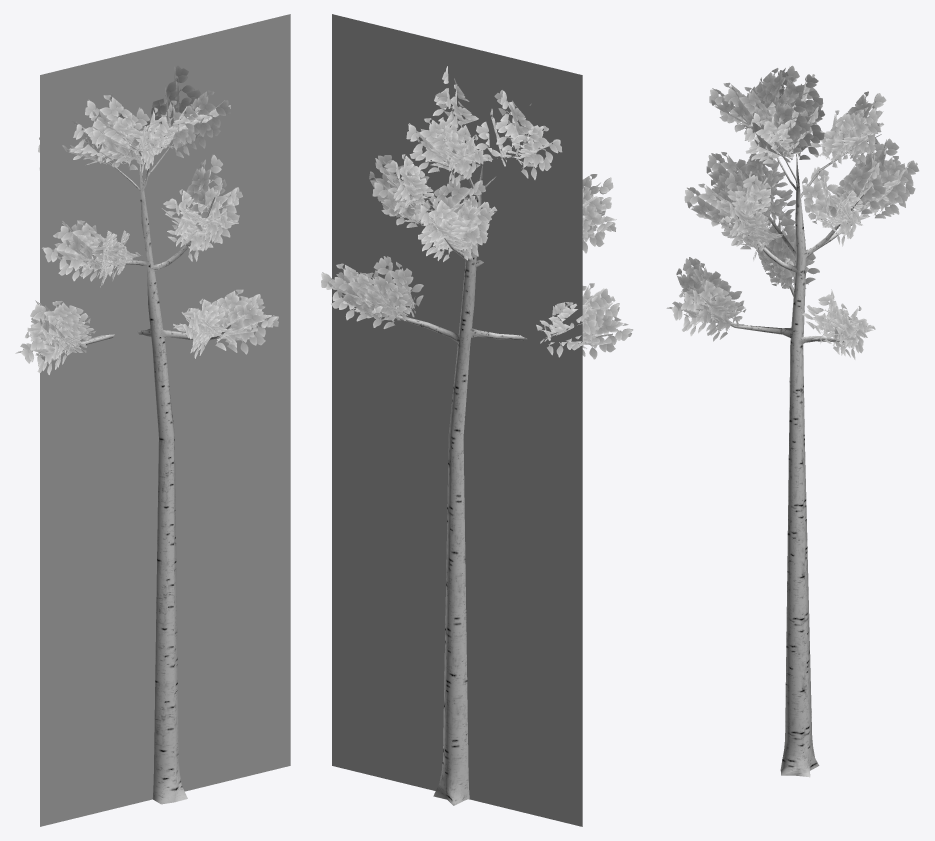
File: Tree_01.fbx
3 views of the same model, side by side, from view 1: azimuth 30°, elevation 25°; view 2: azimuth 150°, elevation 25°; view 3: azimuth 270°, elevation 25° (orthographic). The views are drawn at different scales.
Visible parts, largest first — view 1: Tree_01_Billboard, Tree_01_LOD0; view 2: Tree_01_Billboard, Tree_01_LOD0; view 3: Tree_01_LOD0.
Boxes of the visible parts, box(x1,y1,x2,y2) form: Tree_01_Billboard: box(40, 14, 290, 826); Tree_01_LOD0: box(15, 65, 278, 804); Tree_01_Billboard: box(332, 14, 582, 826); Tree_01_LOD0: box(321, 66, 633, 805); Tree_01_LOD0: box(666, 65, 919, 777).
Size of what is drawn, in the model's own units: 1464 by 3644 by 1207.
